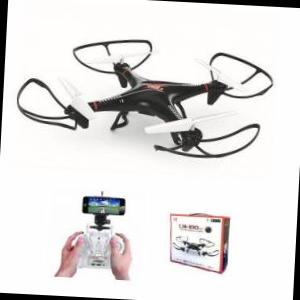drone: (13, 33, 278, 171)
